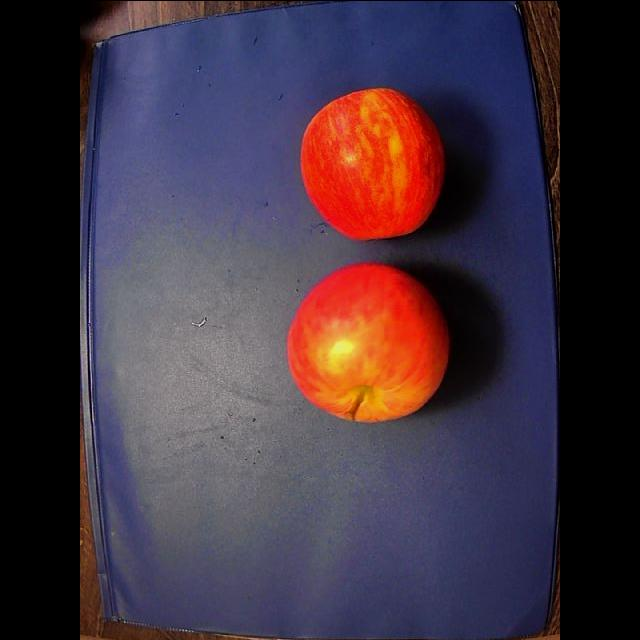manzana: (288, 262, 449, 422), (301, 88, 444, 239)
